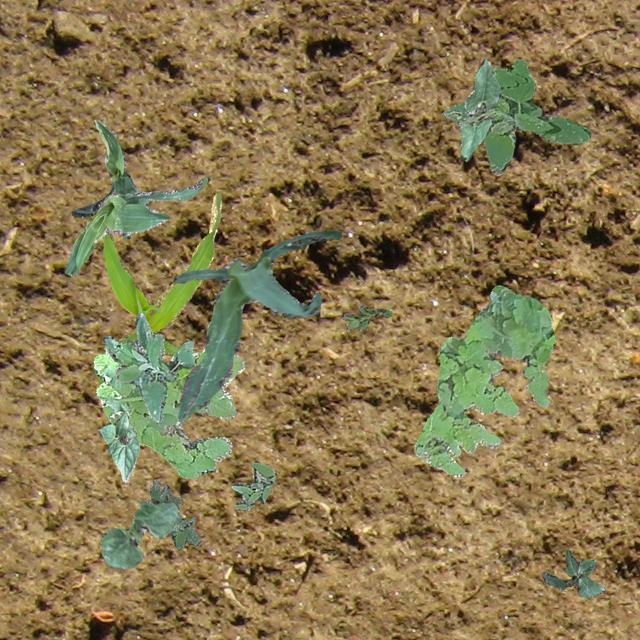crop: (172, 230, 340, 422), (96, 192, 220, 388), (64, 176, 208, 274), (70, 119, 136, 238), (100, 500, 178, 568), (460, 58, 500, 160), (540, 548, 604, 596), (98, 411, 138, 482)
weed: (414, 284, 554, 476), (92, 340, 246, 478), (440, 59, 590, 174), (100, 313, 192, 422), (138, 478, 200, 550), (230, 460, 274, 510), (342, 304, 391, 330)
